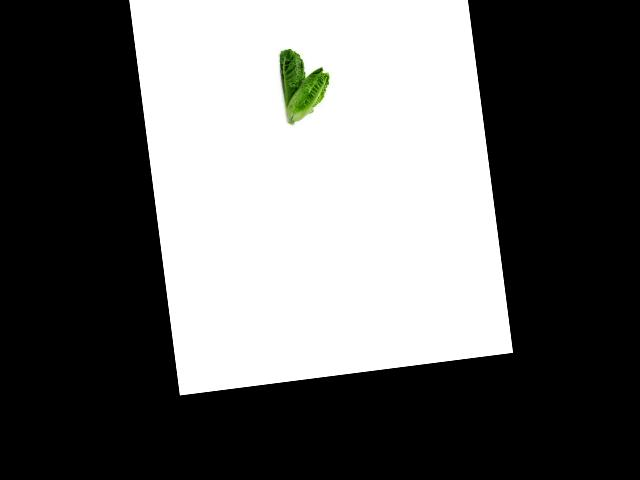lettuce: (272, 42, 310, 110)
